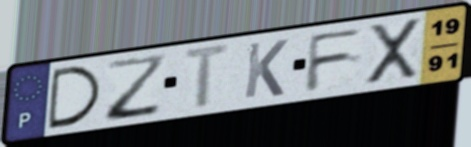D: (46, 63, 105, 132)
F: (303, 25, 367, 95)
K: (241, 37, 291, 101)
T: (180, 41, 236, 113)
X: (365, 16, 423, 88)
Z: (105, 51, 169, 124)
